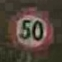limite 50: (7, 8, 53, 52)
